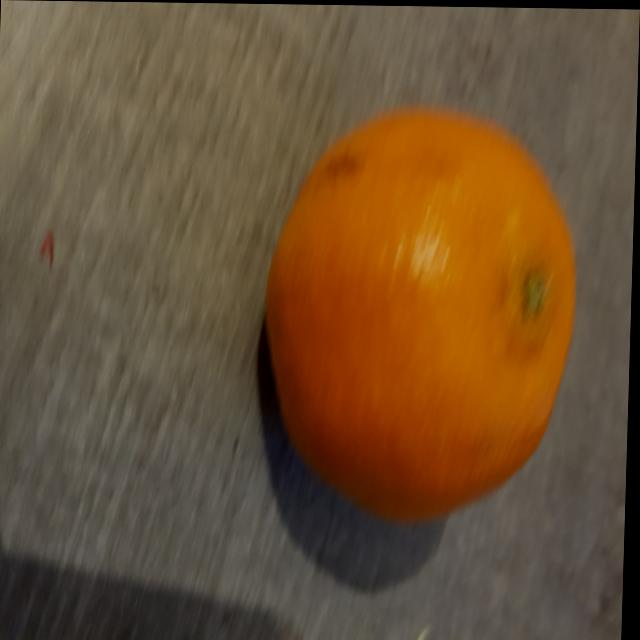Orange: (263, 100, 576, 525)
